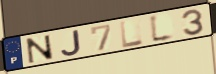3: (180, 8, 206, 37)
7: (89, 23, 113, 52)
J: (60, 28, 83, 57)
L: (148, 13, 177, 45), (118, 19, 145, 49)
N: (25, 34, 56, 65)
